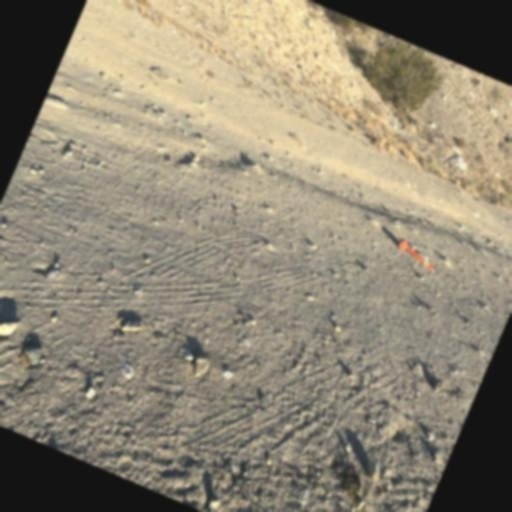mallet: (390, 233, 444, 277)
